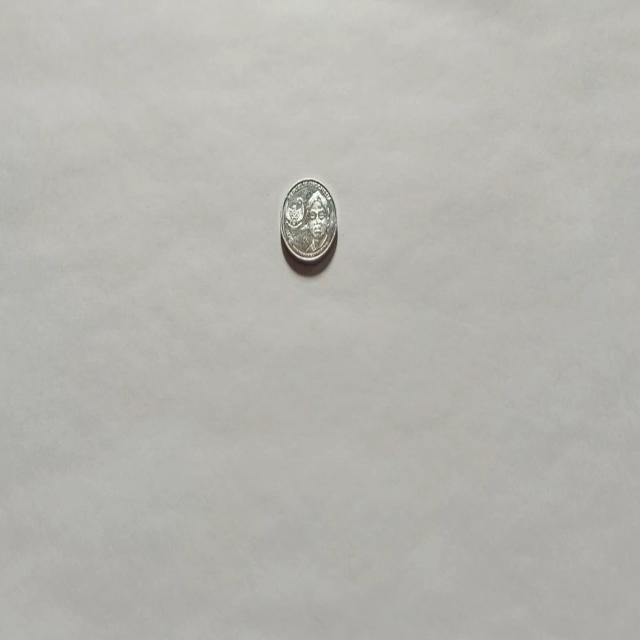dua ratus rupiah: (278, 177, 338, 266)
